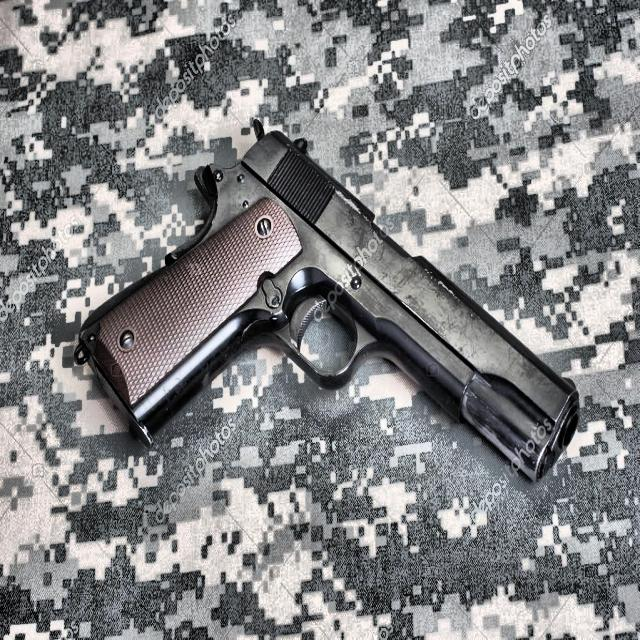Colt m1911: (73, 118, 580, 484)
